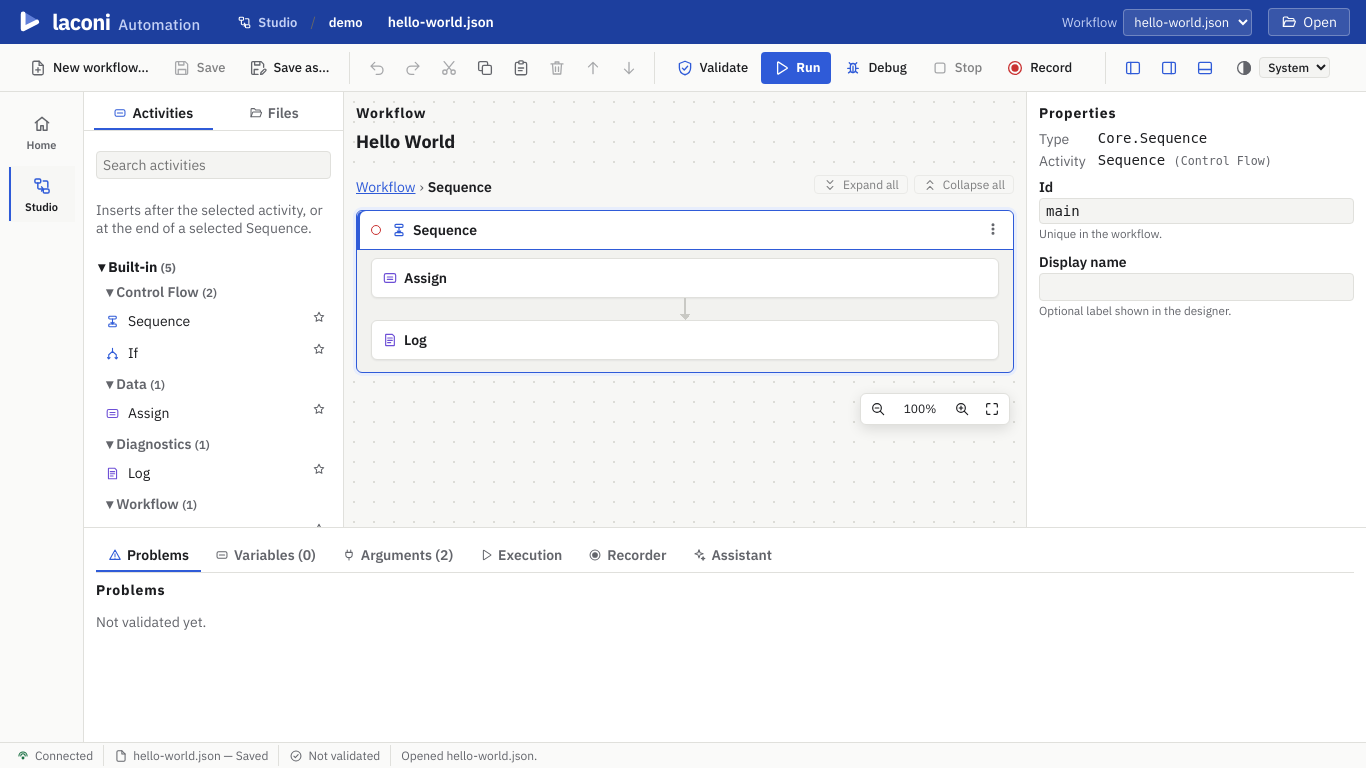
Test case: Rename › refuses when the workflow changed after the uses were found
Click the tab "Arguments (2)" at {"x": 397, "y": 556}, box [330,540,465,572]
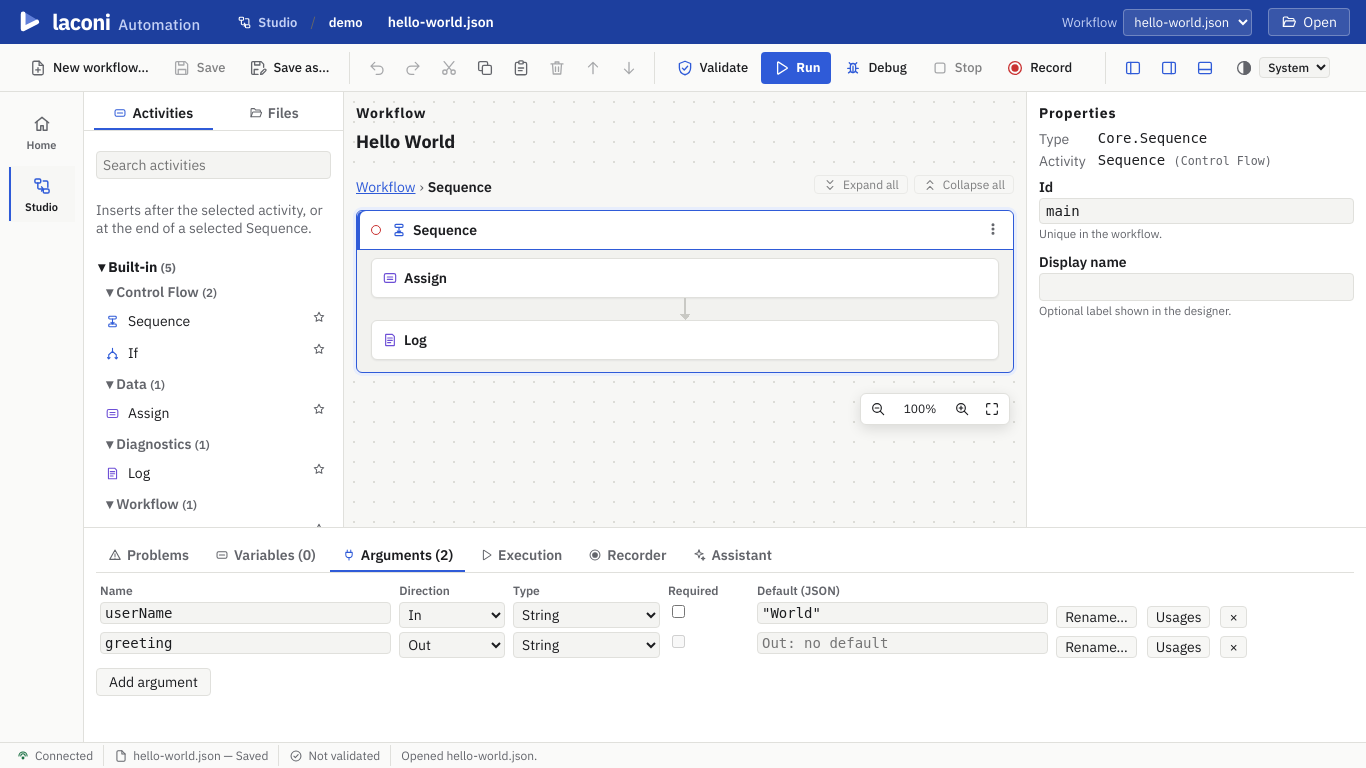
Click the button with aria-label "Rename argument greeting" at {"x": 1096, "y": 647}, box [1056,636,1137,658]
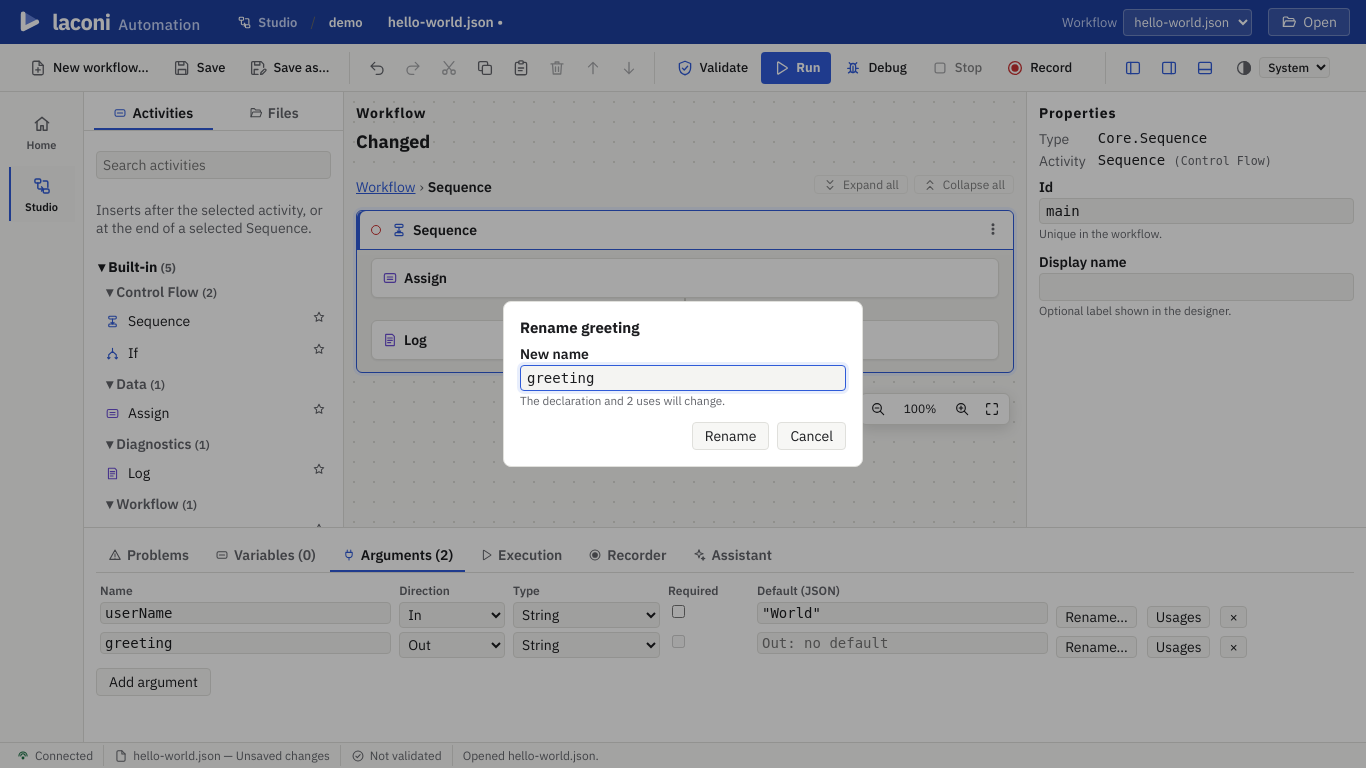
Replace the text in the field labelled "New name" with "salutation" at {"x": 683, "y": 378}, box [520,365,846,391]
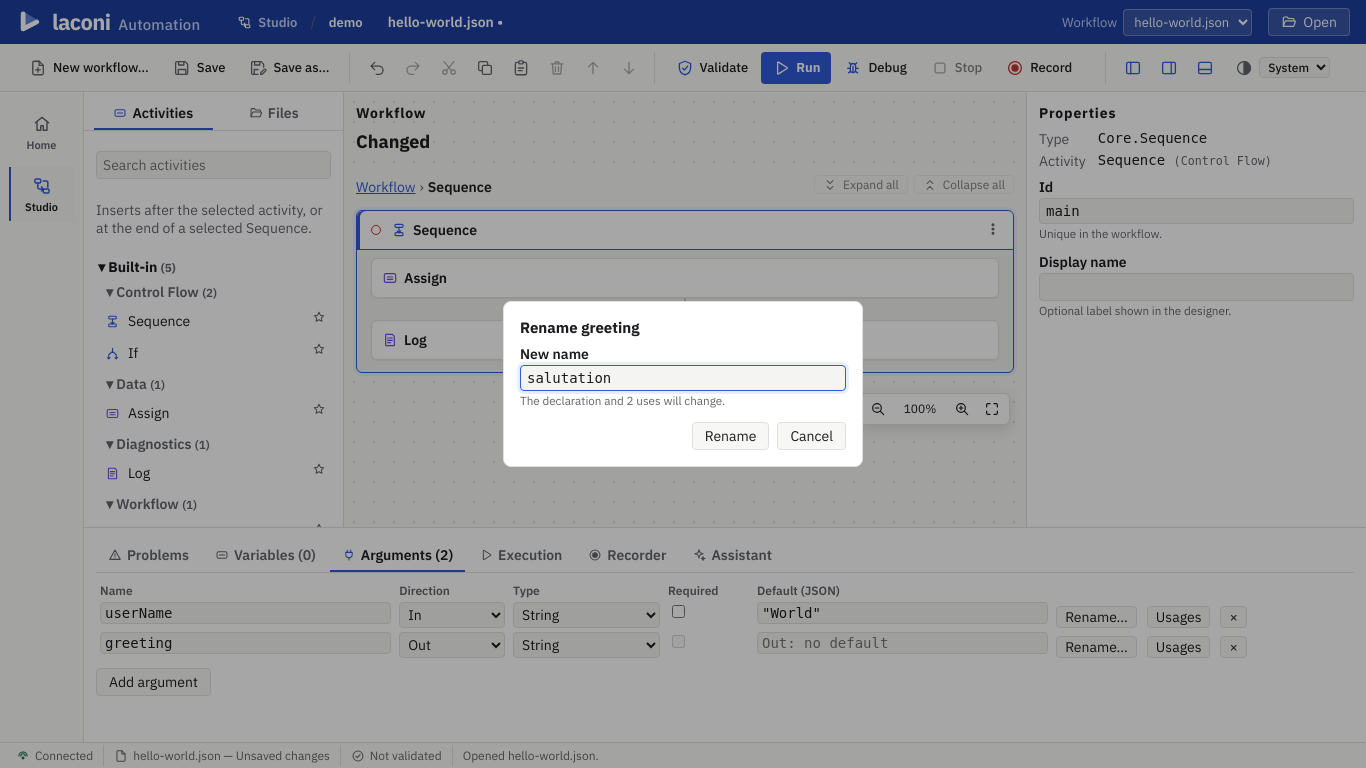
Click the button "Rename" at {"x": 730, "y": 436}, box [692,422,769,450]
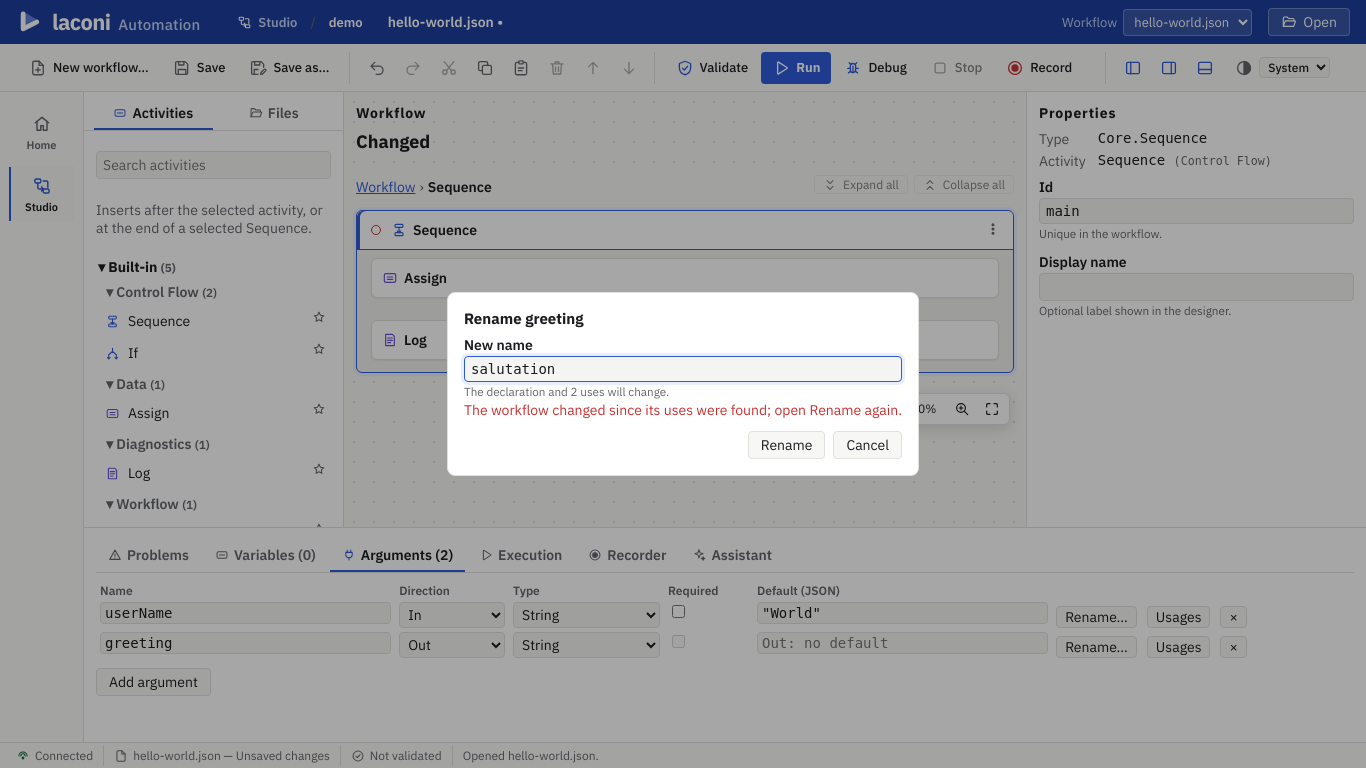
Check: the text "The workflow changed since its uses were found; open Rename again." is shown, box [464,401,902,419]
